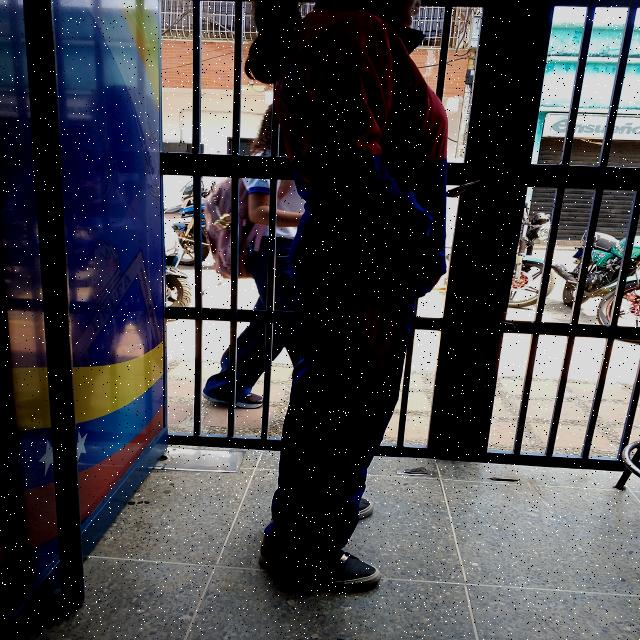chaqueta_unefa: (272, 0, 445, 294)
uniforme_superior: (262, 291, 417, 559)
